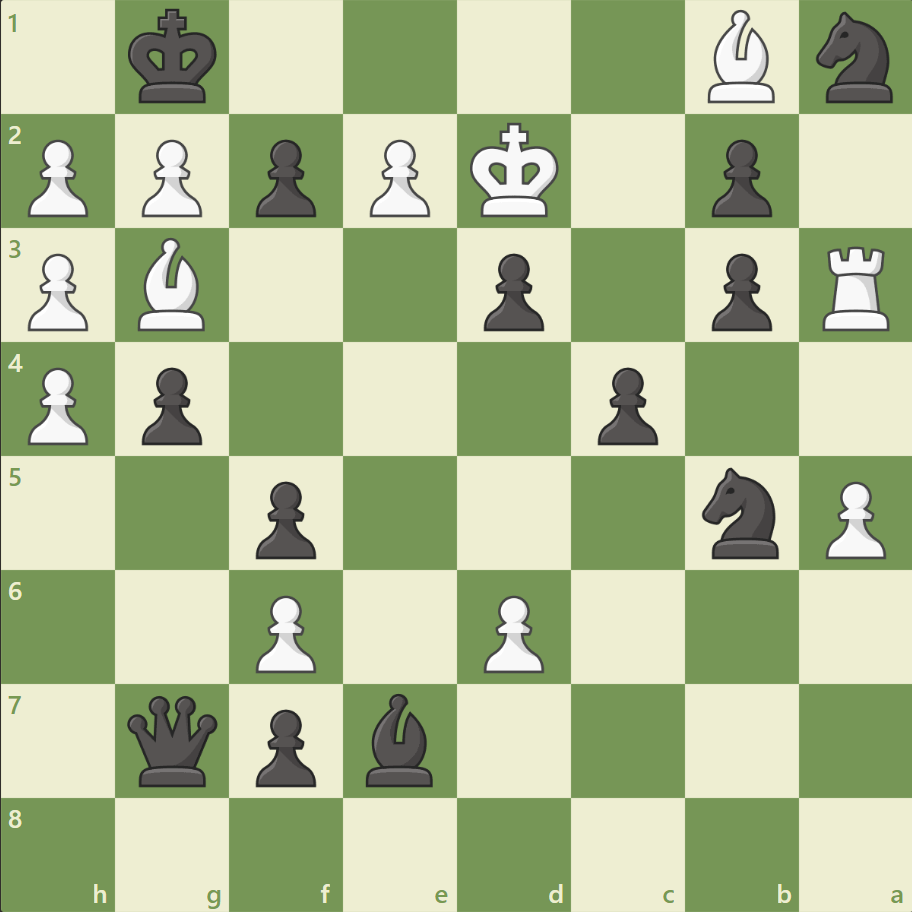B: (131, 233, 215, 336), (698, 6, 782, 109)
K: (465, 117, 565, 225)
P: (474, 586, 549, 677), (247, 586, 322, 677), (20, 359, 95, 450), (20, 246, 95, 337), (133, 132, 208, 223), (20, 132, 95, 223), (815, 473, 889, 564), (361, 132, 435, 223)
R: (814, 239, 897, 336)
b: (358, 687, 442, 790)
k: (124, 4, 224, 112)
n: (692, 461, 789, 564), (806, 7, 903, 110)
p: (247, 700, 322, 791), (247, 473, 322, 564), (133, 359, 208, 450), (701, 246, 776, 337), (474, 246, 549, 337), (701, 132, 776, 223), (247, 132, 322, 223), (588, 359, 662, 450)
q: (124, 690, 223, 789)
